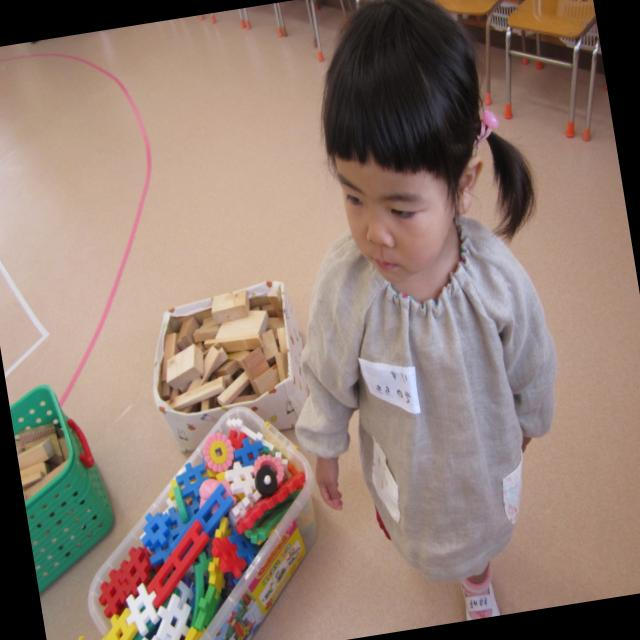Toy: (67, 421, 346, 640)
